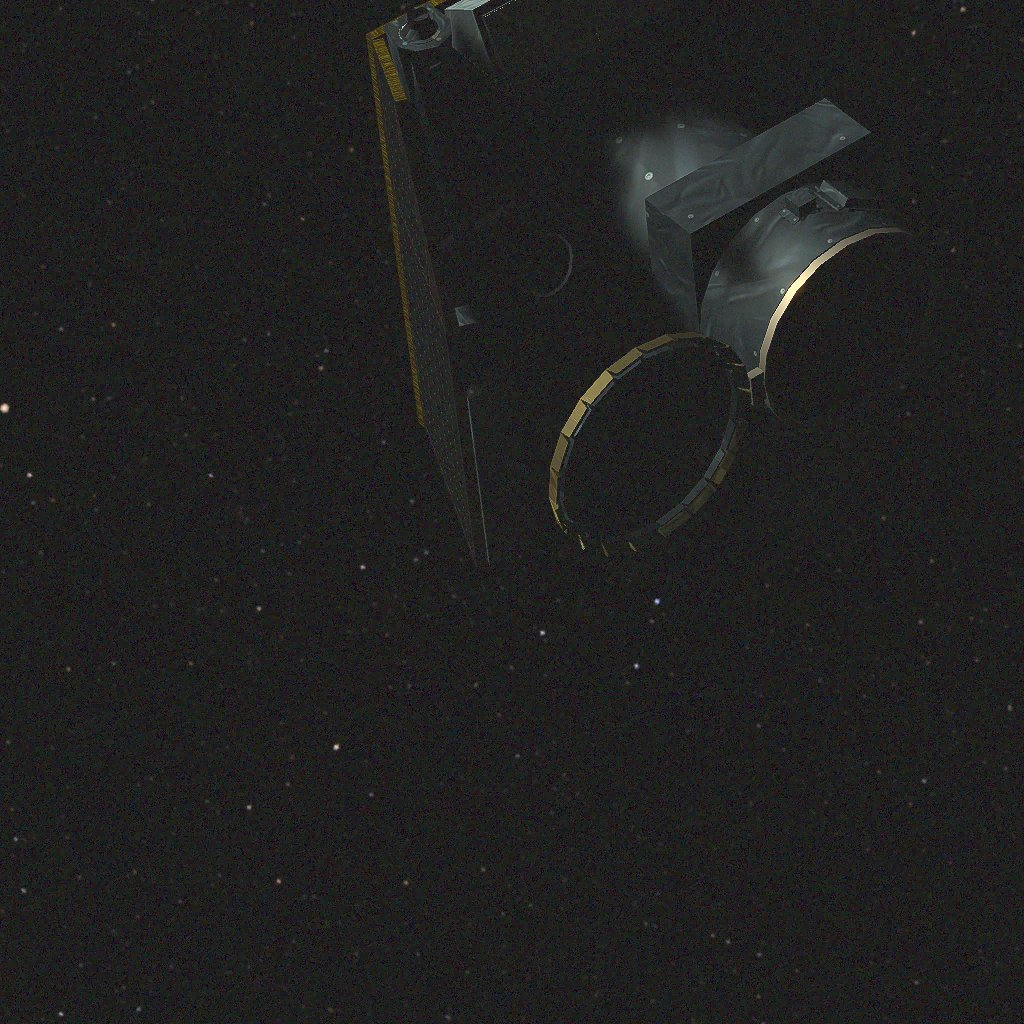cheops: (366, 0, 942, 624)
